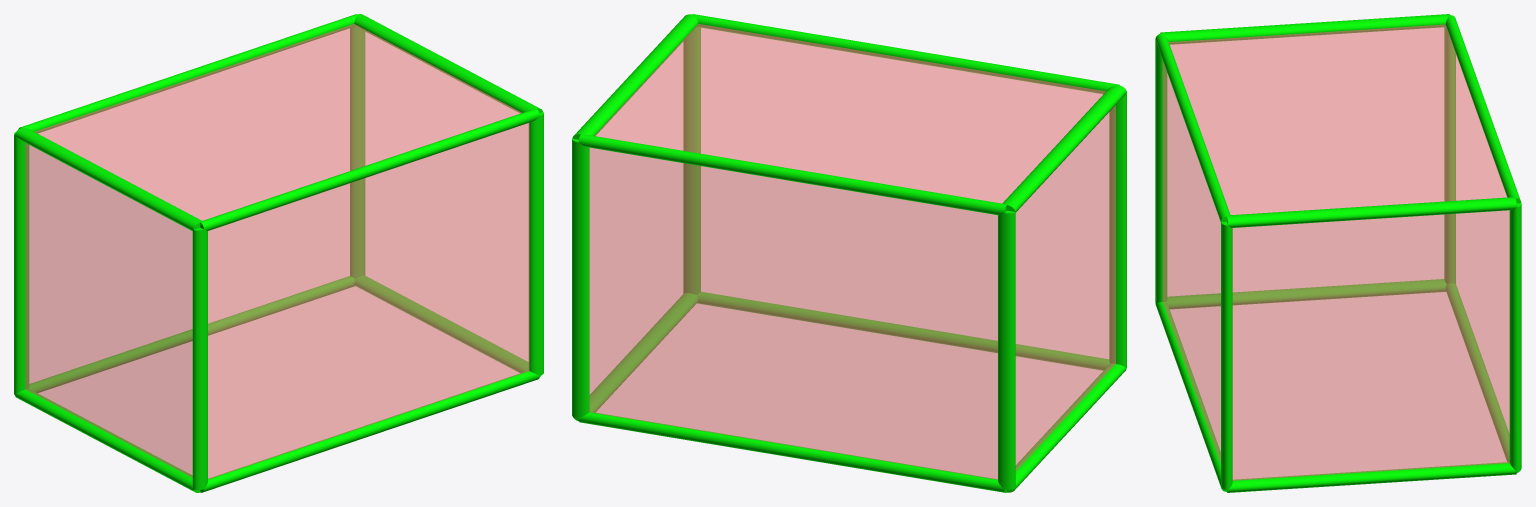
3 renders of one model, left to right at view 1: azimuth 30°, elevation 25°; view 2: azimuth 150°, elevation 25°; view 3: azimuth 270°, elevation 25°, orthographic. The views are drawn at different scales.
Parts seen in each view (by area): view 1: Box, Cylinder (×14); view 2: Box, Cylinder (×13); view 3: Box, Cylinder (×13).
Boxes of the visible parts, box(x1,y1,x2,y2) form: Box: box(25, 24, 529, 479); Cylinder (×14): box(14, 14, 543, 492); Box: box(589, 24, 1115, 479); Cylinder (×13): box(572, 14, 1126, 492); Box: box(1162, 24, 1509, 480); Cylinder (×13): box(1155, 14, 1521, 492).
Bounding box in the file's own units: 1.69 × 1.04 × 1.25.
